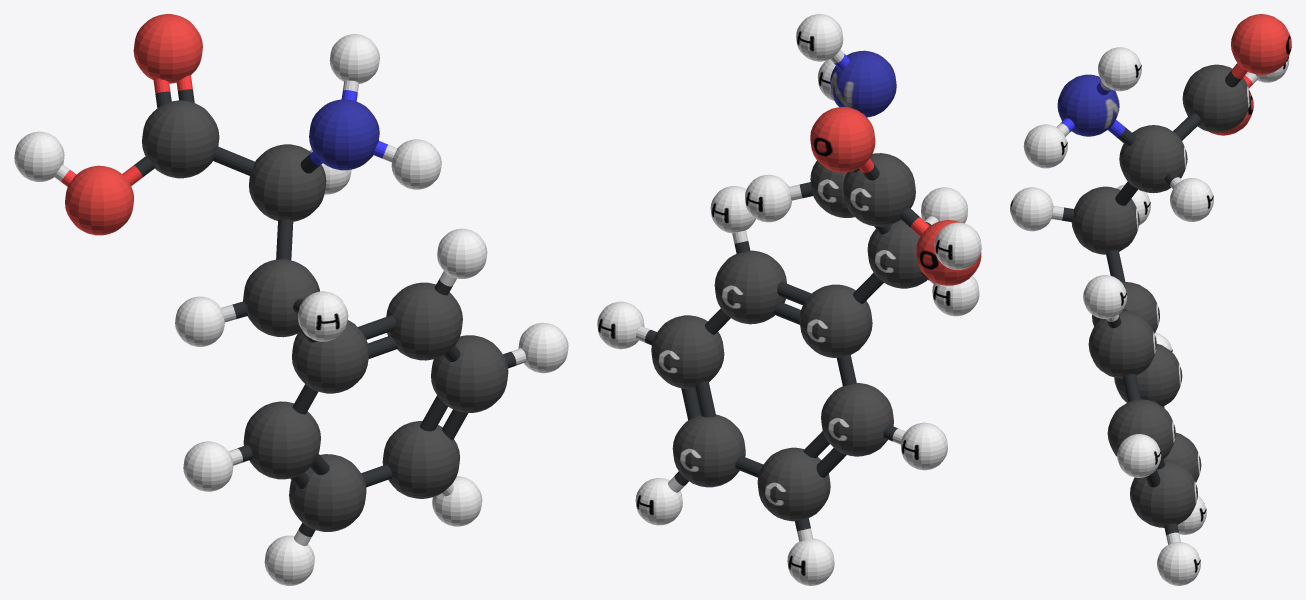
The model's file is Fenilalanina.fbx.
3 renders of one model, left to right at view 1: azimuth 30°, elevation 25°; view 2: azimuth 150°, elevation 25°; view 3: azimuth 270°, elevation 25°, orthographic. The views are drawn at different scales.
Parts seen in each view (by area): view 1: Shape_Sphere.033; view 2: Shape_Sphere.033; view 3: Shape_Sphere.033.
Boxes of the visible parts, x1,y1,x2,y2 form: Shape_Sphere.033: [14, 14, 568, 585]; Shape_Sphere.033: [597, 14, 981, 585]; Shape_Sphere.033: [1010, 14, 1291, 585].
Bounding box in the file's own units: 21.45 × 24.52 × 12.63.
Materials: 8 (4 with a texture image).
